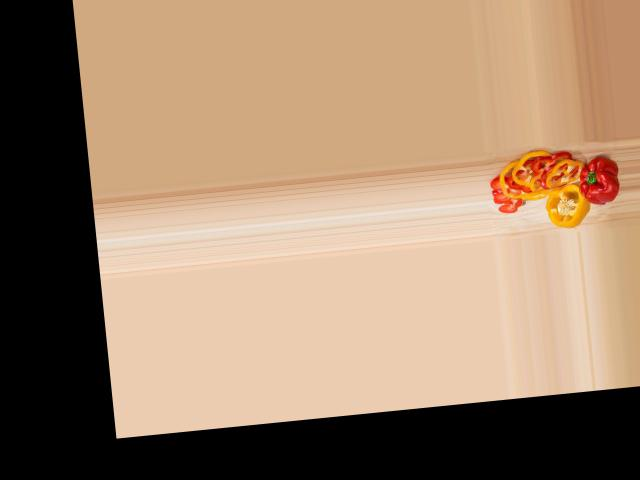bell_pepper: (541, 183, 590, 232)
